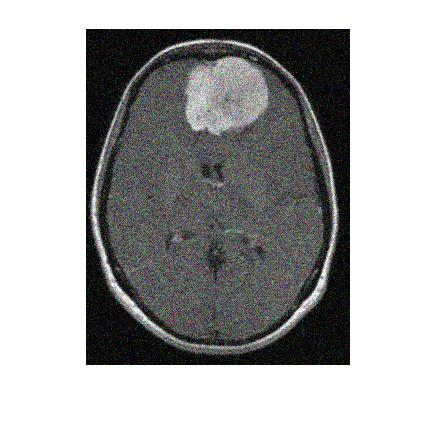Brain_Cancer: (185, 57, 269, 136)
